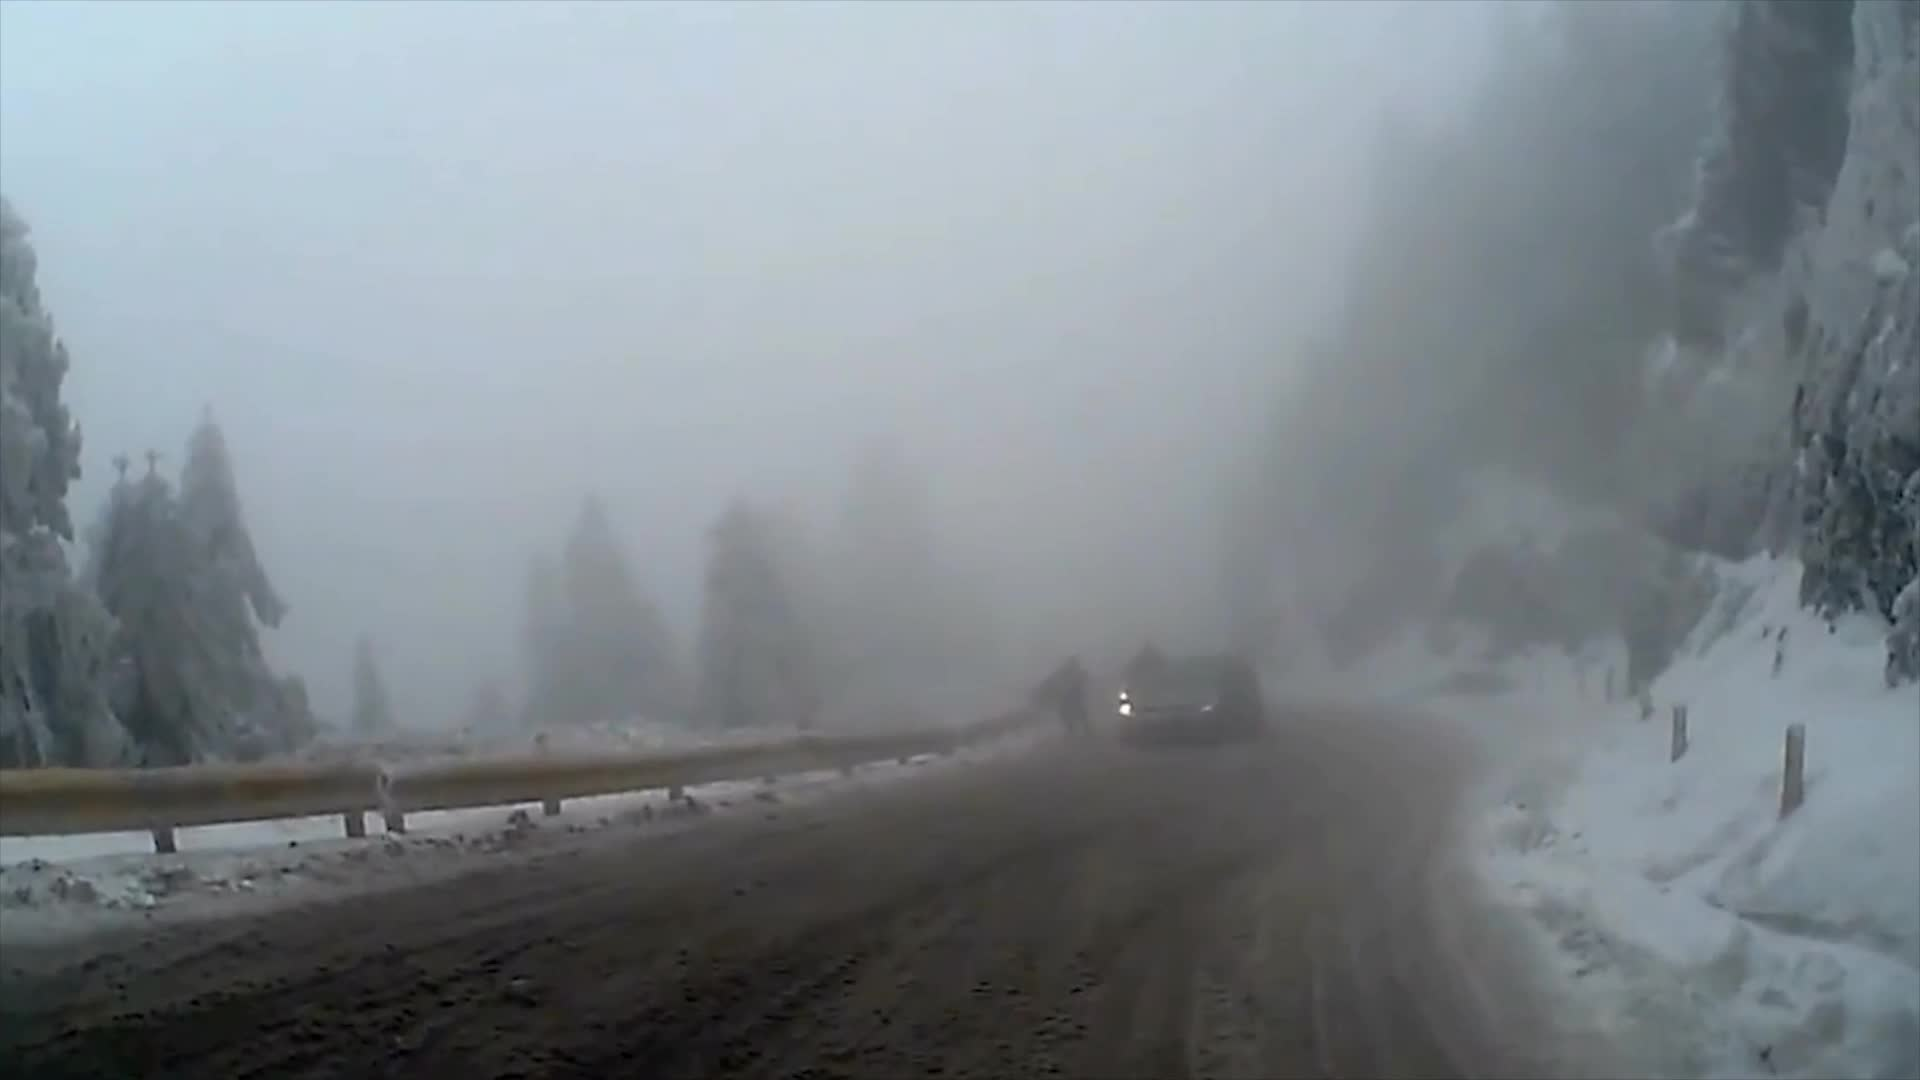vehicle: (1110, 651, 1265, 750)
